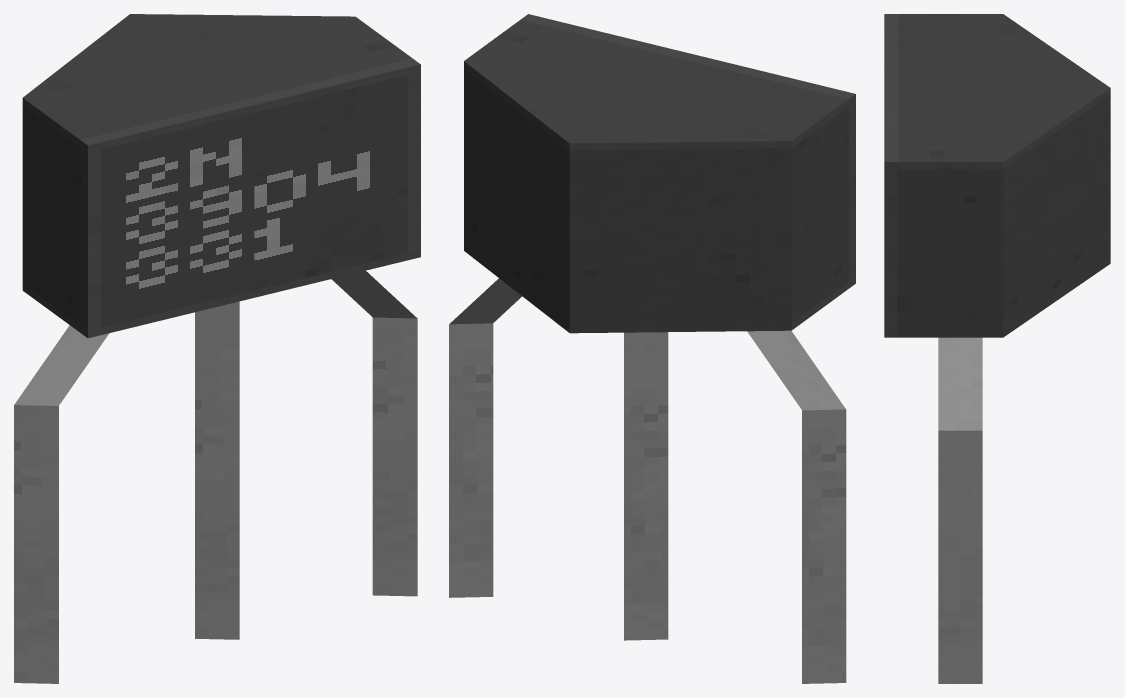
Rendered from Transistor.obj.
3 renders of one model, left to right at view 1: azimuth 30°, elevation 25°; view 2: azimuth 150°, elevation 25°; view 3: azimuth 270°, elevation 25°, orthographic. The views are drawn at different scales.
Visible parts, largest first — view 1: Transistor_Sphere.004; view 2: Transistor_Sphere.004; view 3: Transistor_Sphere.004.
Boxes of the visible parts, x1,y1,x2,y2 form: Transistor_Sphere.004: [14, 14, 420, 683]; Transistor_Sphere.004: [449, 14, 855, 683]; Transistor_Sphere.004: [884, 14, 1110, 683].
Size of the model in its own units: 0.1931 by 0.2641 by 0.1062.
